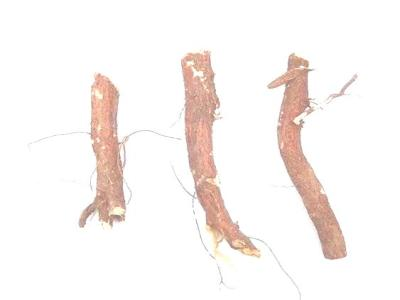Root: (181, 51, 259, 257), (268, 54, 346, 259), (79, 74, 124, 227)
